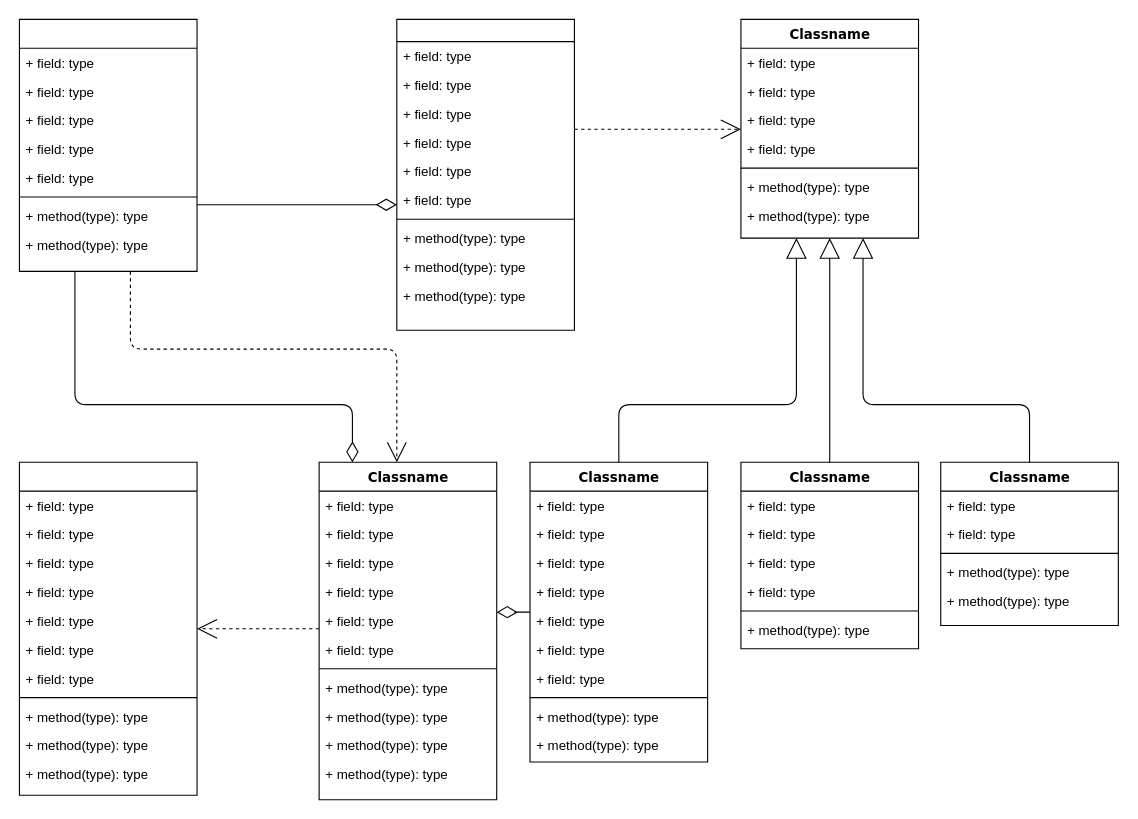
This 1138x819 diagram has some shape labels left out. Here are the shapes that lost their labels. From the top down, the box of each, then its label:
(18, 18, 197, 271): user
(396, 18, 574, 330): TASKS
(18, 461, 197, 795): DASHBORD
